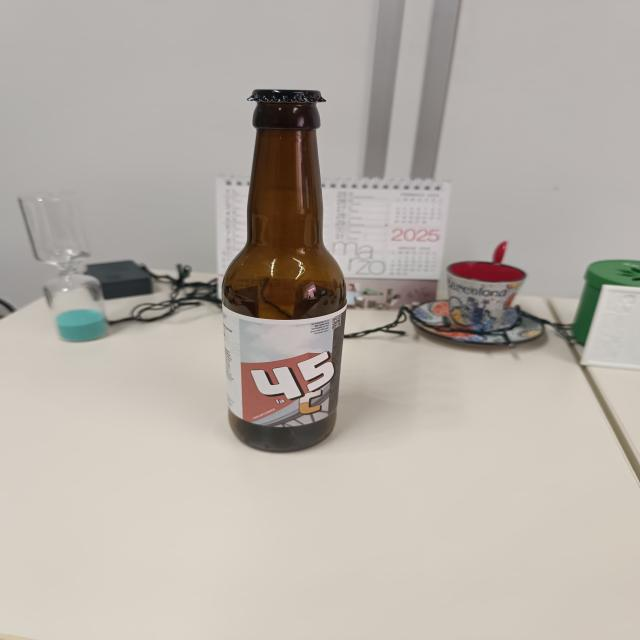Bottle: (217, 88, 348, 453)
Cap: (245, 86, 332, 107)
Label: (222, 308, 350, 425)
